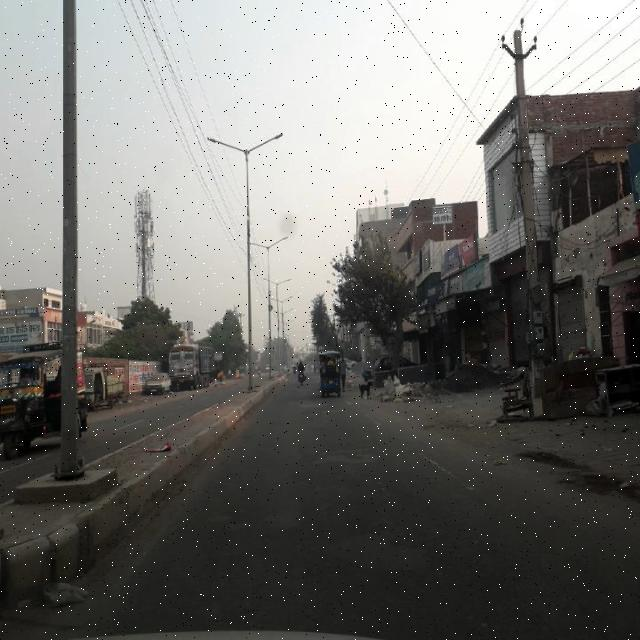D40: (329, 516, 435, 570), (202, 487, 308, 541), (306, 441, 388, 471)
D44: (418, 451, 482, 497)
